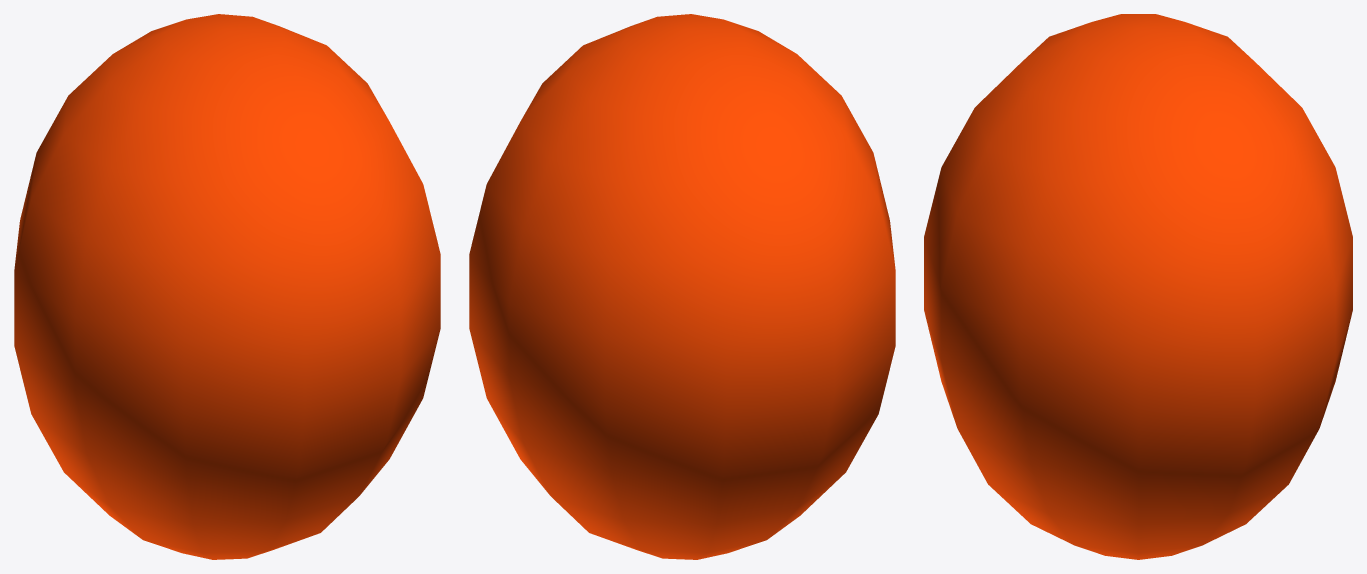
File: flamiris_stage3.obj
3 views of the same model, side by side, from view 1: azimuth 30°, elevation 25°; view 2: azimuth 150°, elevation 25°; view 3: azimuth 270°, elevation 25° (orthographic).
Bounding box in the file's own units: 2.72 × 3.64 × 2.74.
